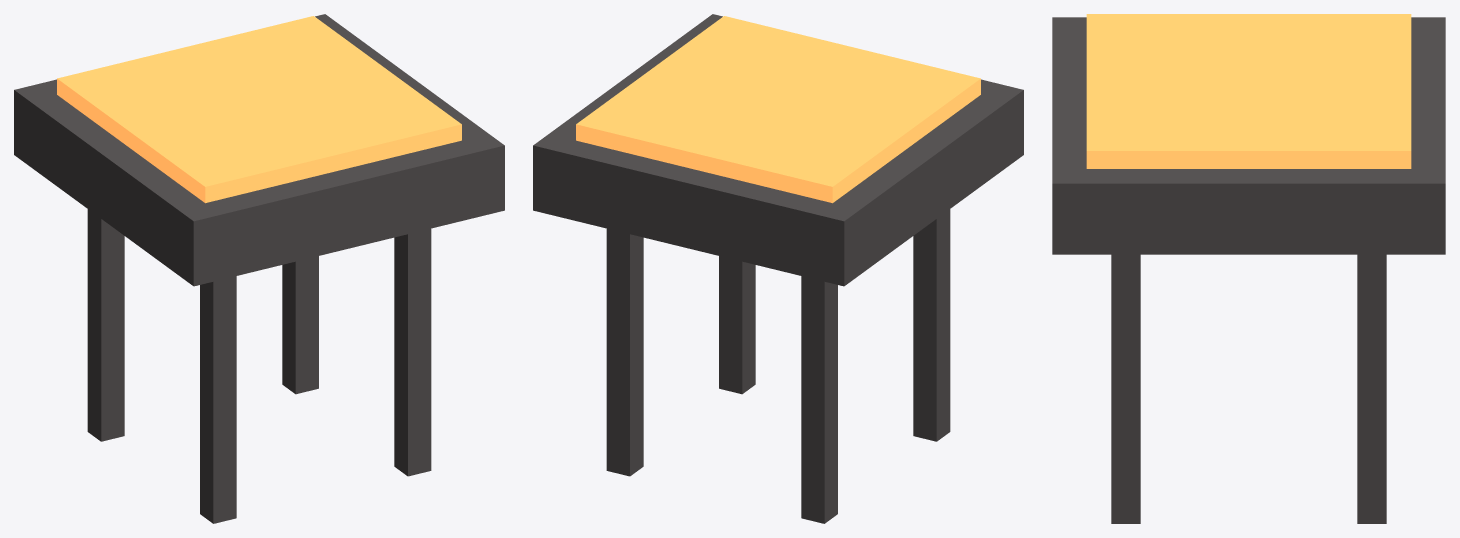
The model's file is brazier.glb.
3 views of the same model, side by side, from view 1: azimuth 30°, elevation 25°; view 2: azimuth 150°, elevation 25°; view 3: azimuth 270°, elevation 25° (orthographic). The views are drawn at different scales.
Visible parts, largest first — view 1: embers, bowl, leg3, leg2, leg0, leg1; view 2: embers, bowl, leg1, leg0, leg2, leg3; view 3: embers, bowl, leg1, leg3.
Part boxes in pixels (x1,y1,x2,y2): embers: (57,16,461,203); bowl: (14,14,504,286); leg3: (394,228,431,476); leg2: (200,276,236,523); leg0: (87,209,124,441); leg1: (282,256,318,394); embers: (576,16,980,203); bowl: (533,14,1023,286); leg1: (606,228,643,476); leg0: (801,276,837,523); leg2: (913,209,950,441); leg3: (719,256,755,394); embers: (1086,14,1411,168); bowl: (1052,17,1445,254); leg1: (1357,254,1386,523); leg3: (1111,254,1140,523).
Bounding box in the file's own units: 0.8 × 0.86 × 0.8.
